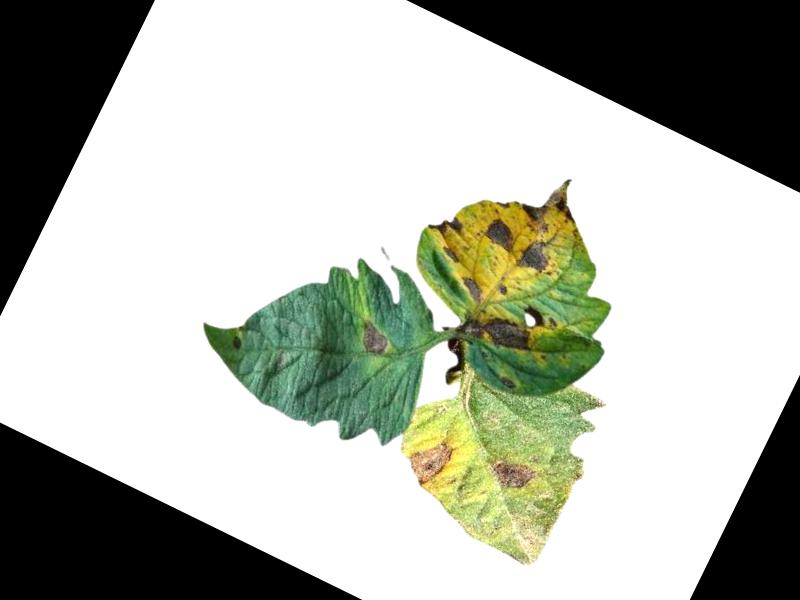Early_blight: (512, 163, 594, 245), (456, 299, 540, 366), (398, 429, 458, 494), (483, 449, 541, 501), (512, 233, 565, 283), (349, 318, 393, 361), (478, 213, 522, 255), (423, 207, 466, 245), (456, 274, 489, 306), (437, 244, 462, 267), (225, 332, 246, 353), (494, 283, 510, 300)
